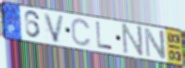6: (24, 10, 42, 41)
C: (70, 18, 93, 48)
L: (95, 21, 114, 52)
N: (121, 23, 145, 59), (144, 26, 168, 61)
V: (42, 12, 66, 44)
